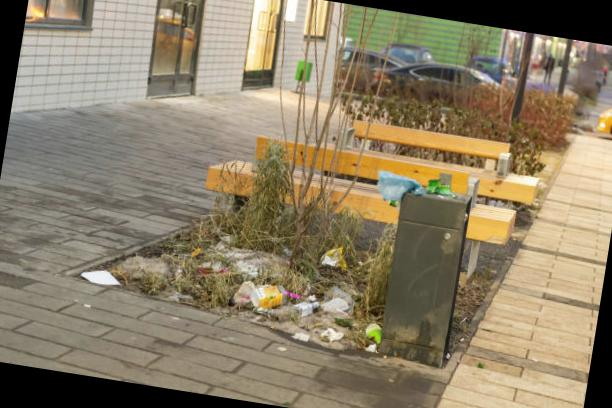trash: (73, 223, 410, 350), (377, 154, 478, 219)
trash_can_overflow: (156, 93, 534, 384)
